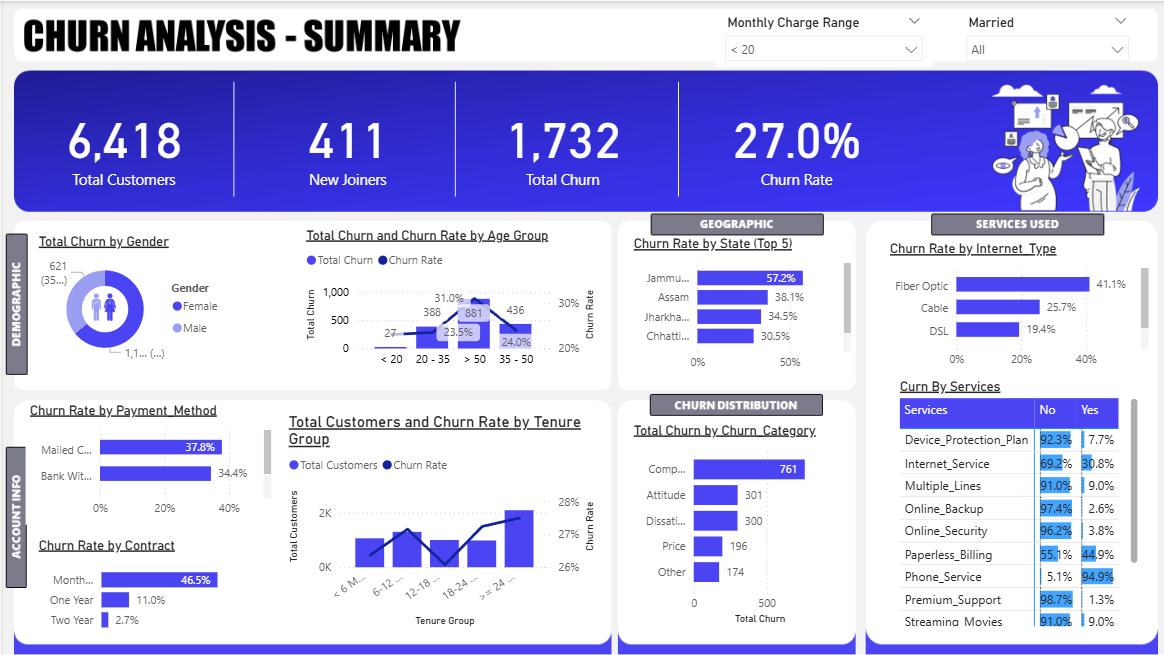

Layout of this report page (visuals, bound fields, positions):
{"tool":"powerbi","page":{"name":"summary","canvas":[1280,720],"ordinal":0},"visuals":[{"type":"image","box":[86.4,306,56.3,53.5],"z":0},{"type":"image","box":[87.8,311.5,54.9,48],"z":1000},{"type":"card","fields":{"Values":["tbl_Measure.Total Customers"]},"box":[24.7,94.7,216.8,124.9],"z":2000},{"type":"card","fields":{"Values":["tbl_Measure.New Joiners"]},"box":[270.3,94.7,216.8,124.9],"z":3000},{"type":"card","fields":{"Values":["tbl_Measure.Total Churn"]},"box":[506.3,94.7,216.8,124.9],"z":4000},{"type":"donutChart","fields":{"Category":["prod_Churn.Gender"],"Y":["tbl_Measure.Total Churn"]},"box":[34.3,255.2,216.8,149.6],"z":5000},{"type":"card","fields":{"Values":["tbl_Measure.Churn Rate"]},"box":[763,94.7,216.8,124.9],"z":6000},{"type":"clusteredBarChart","fields":{"Category":["prod_Churn.Payment_Method"],"Y":["tbl_Measure.Churn Rate"]},"box":[24.7,440.5,274.4,134.5],"z":7000},{"type":"clusteredBarChart","fields":{"Category":["prod_Churn.Contract"],"Y":["tbl_Measure.Churn Rate"]},"box":[34.3,588.7,245.6,113.9],"z":8000},{"type":"lineStackedColumnComboChart","fields":{"Category":["mapping_AgeGrp.Age Group"],"Y":["tbl_Measure.Total Churn"],"Y2":["tbl_Measure.Churn Rate"]},"box":[328,248.4,328,163.3],"z":9000},{"type":"lineStackedColumnComboChart","fields":{"Y":["tbl_Measure.Total Customers"],"Category":["mapping_TenureGrp.Tenure Group"],"Y2":["tbl_Measure.Churn Rate"]},"box":[308.7,451.5,347.2,240.1],"z":10000},{"type":"clusteredBarChart","title":"Churn Rate by State (Top 5)","fields":{"Category":["prod_Churn.State"],"Y":["tbl_Measure.Churn Rate"]},"box":[687.5,258,248.4,156.4],"z":11000},{"type":"clusteredBarChart","fields":{"Y":["tbl_Measure.Total Churn"],"Category":["prod_Churn.Churn_Category"]},"box":[687.5,462.4,231.9,226.4],"z":12000},{"type":"clusteredBarChart","fields":{"Category":["prod_Churn.Internet_Type"],"Y":["tbl_Measure.Churn Rate"]},"box":[968.8,263.5,293.7,148.2],"z":13000},{"type":"pivotTable","title":"Curn By Services","fields":{"Rows":["prod_Services.Services"],"Columns":["prod_Services.Status"],"Values":["Sum(prod_Services.Churn Status)"]},"box":[979.8,414.4,271.7,277.2],"z":14000},{"type":"image","box":[79.6,311.5,63.1,48],"z":15000},{"type":"slicer","fields":{"Values":["prod_Churn.Married"]},"box":[1047,9.6,199,56.3],"z":16000},{"type":"slicer","fields":{"Values":["prod_Services.Monthly Charge Status "]},"box":[782.2,9.6,237.4,63.1],"z":17000}]}

Visuals, with their boxes in screenshot pixels (x1, y1, x2, y2), scaled from the page's 1280x720 canvas onto the 1164x655 screenshot:
image: 79,278,130,327
image: 80,283,130,327
card - tbl_Measure.Total Customers: 22,86,220,200
card - tbl_Measure.New Joiners: 246,86,443,200
card - tbl_Measure.Total Churn: 460,86,658,200
donutChart - prod_Churn.Gender x tbl_Measure.Total Churn: 31,232,228,368
card - tbl_Measure.Churn Rate: 694,86,891,200
clusteredBarChart - prod_Churn.Payment_Method x tbl_Measure.Churn Rate: 22,401,272,523
clusteredBarChart - prod_Churn.Contract x tbl_Measure.Churn Rate: 31,536,255,639
lineStackedColumnComboChart - mapping_AgeGrp.Age Group x tbl_Measure.Total Churn: 298,226,597,375
lineStackedColumnComboChart - tbl_Measure.Total Customers x mapping_TenureGrp.Tenure Group: 281,411,596,629
"Churn Rate by State (Top 5)" clusteredBarChart: 625,235,851,377
clusteredBarChart - tbl_Measure.Total Churn x prod_Churn.Churn_Category: 625,421,836,627
clusteredBarChart - prod_Churn.Internet_Type x tbl_Measure.Churn Rate: 881,240,1148,375
"Curn By Services" pivotTable: 891,377,1138,629
image: 72,283,130,327
slicer - prod_Churn.Married: 952,9,1133,60
slicer - prod_Services.Monthly Charge Status : 711,9,927,66
